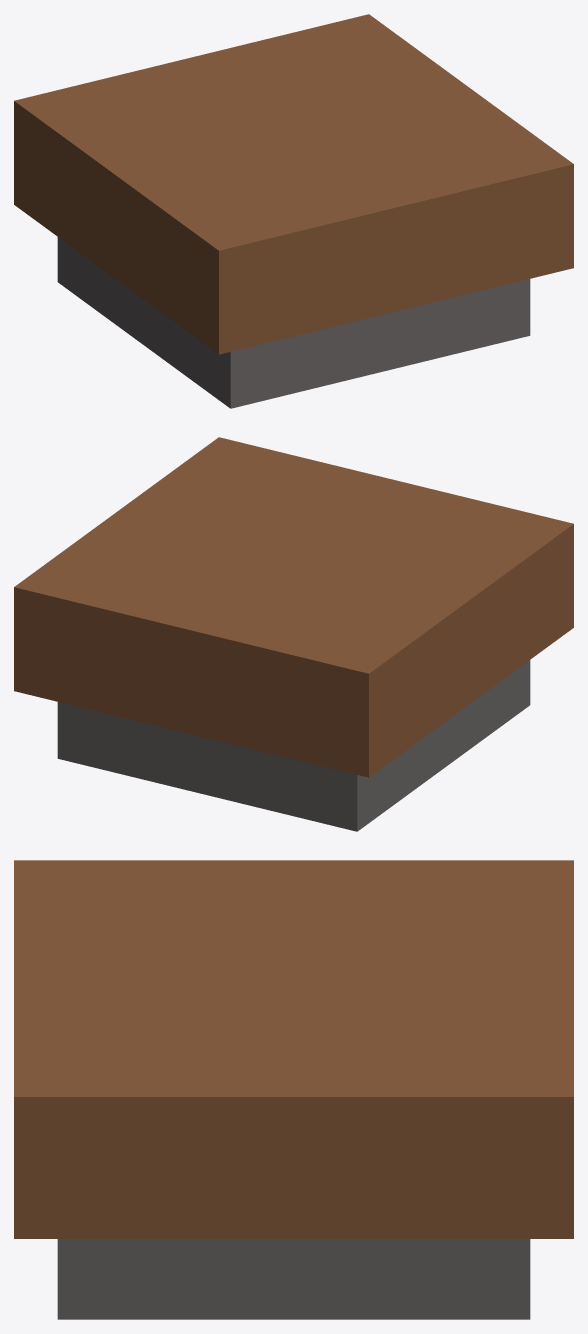
The model's file is vloer.fbx.
3 views of the same model, one above another, from view 1: azimuth 30°, elevation 25°; view 2: azimuth 150°, elevation 25°; view 3: azimuth 270°, elevation 25° (orthographic). The views are drawn at different scales.
Parts seen in each view (by area): view 1: vloer; view 2: vloer; view 3: vloer.
Boxes of the visible parts, bbox=[...] form: vloer: bbox=[14, 14, 573, 408]; vloer: bbox=[14, 437, 573, 831]; vloer: bbox=[14, 860, 573, 1319].
Size of the model in its own units: 1 by 0.4751 by 1.
